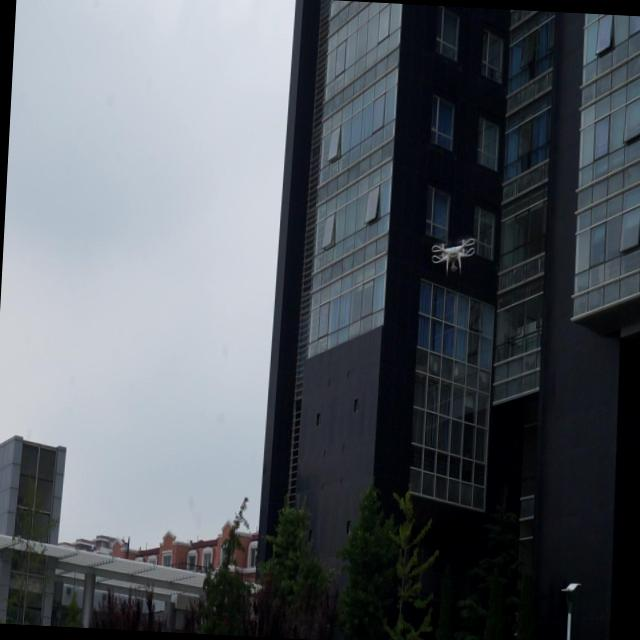drone: (428, 233, 476, 276)
